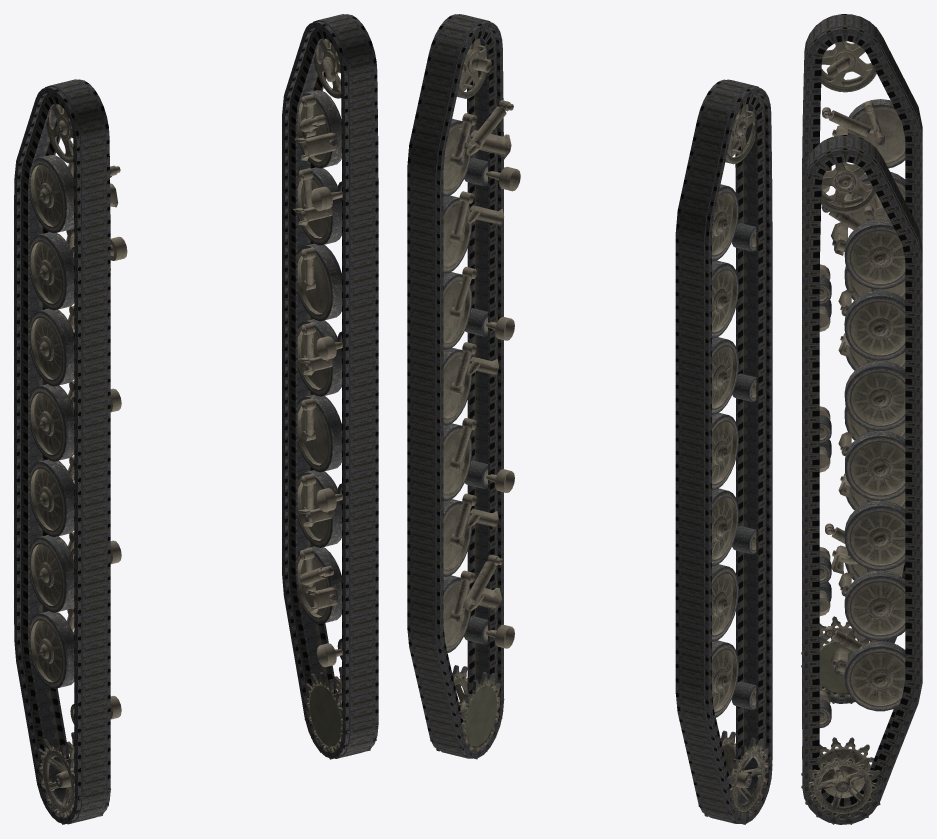
Rendered from Chassis.glb.
3 renders of one model, left to right at view 1: azimuth 30°, elevation 25°; view 2: azimuth 150°, elevation 25°; view 3: azimuth 270°, elevation 25°, orthographic. The views are drawn at different scales.
Parts seen in each view (by area): view 1: set_0_group_0, set_1_group_0, set_2_group_0, set_3_group_0; view 2: set_0_group_0, set_1_group_0, set_3_group_0, set_2_group_0; view 3: set_3_group_0, set_1_group_0, set_2_group_0, set_0_group_0.
Boxes of the visible parts, box(x1,y1,x2,y2) form: set_0_group_0: box(14, 79, 110, 824); set_1_group_0: box(282, 14, 378, 758); set_2_group_0: box(30, 103, 127, 824); set_3_group_0: box(292, 38, 378, 759); set_0_group_0: box(675, 79, 772, 823); set_1_group_0: box(407, 14, 503, 758); set_3_group_0: box(430, 38, 520, 759); set_2_group_0: box(698, 104, 772, 824); set_3_group_0: box(801, 162, 905, 824); set_1_group_0: box(802, 135, 922, 824); set_2_group_0: box(801, 41, 905, 703); set_0_group_0: box(802, 14, 922, 703).
Size of the model in its own units: 2.73 by 6.35 by 1.03.
4 materials, 4 textured.
